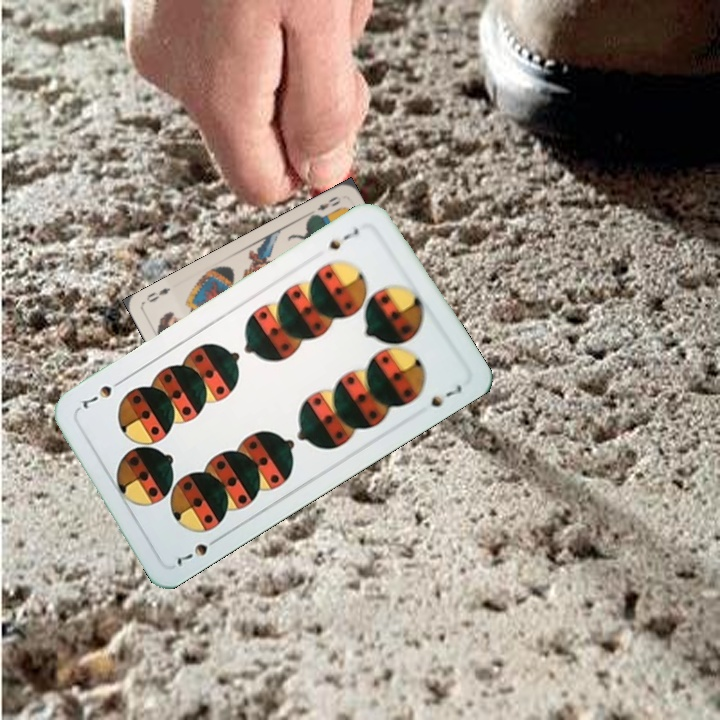EO: (313, 192, 344, 213)
S7: (172, 532, 223, 570), (325, 224, 361, 253)
